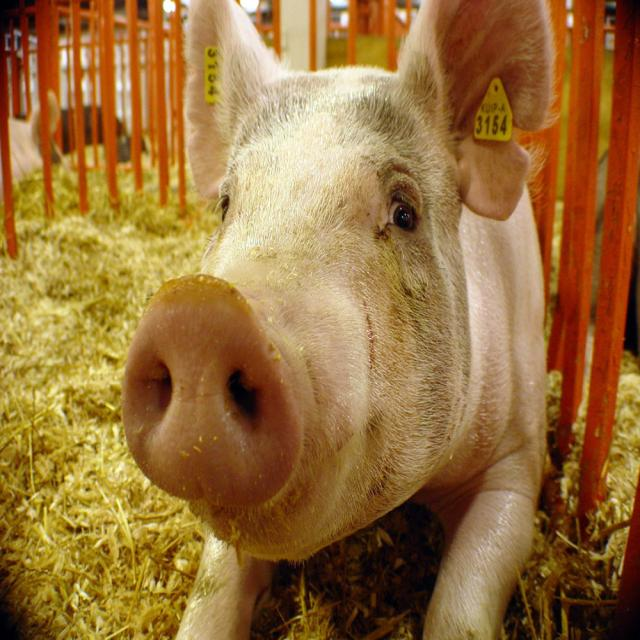pig: (119, 0, 561, 640)
